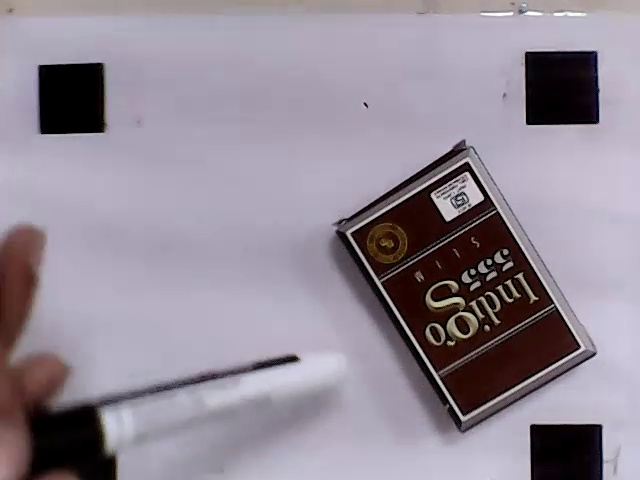BEX: (347, 159, 583, 418)
